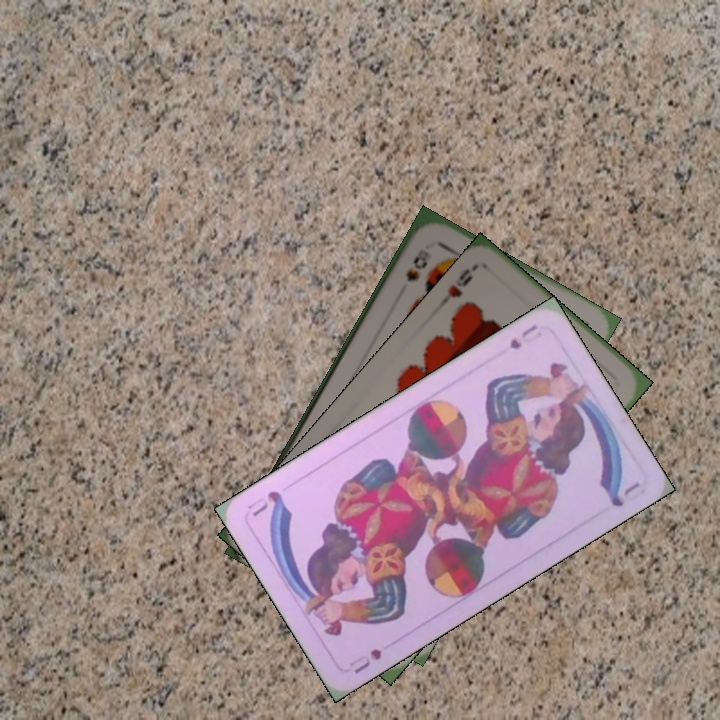H9: (435, 261, 480, 310)
S8: (402, 245, 433, 284)
SU: (345, 644, 384, 677), (505, 320, 541, 352)
